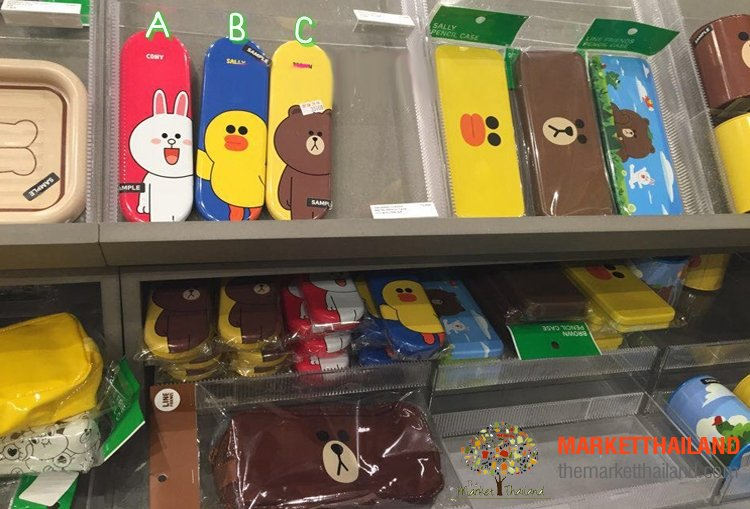line_brown: (269, 99, 343, 177), (600, 95, 666, 169)
